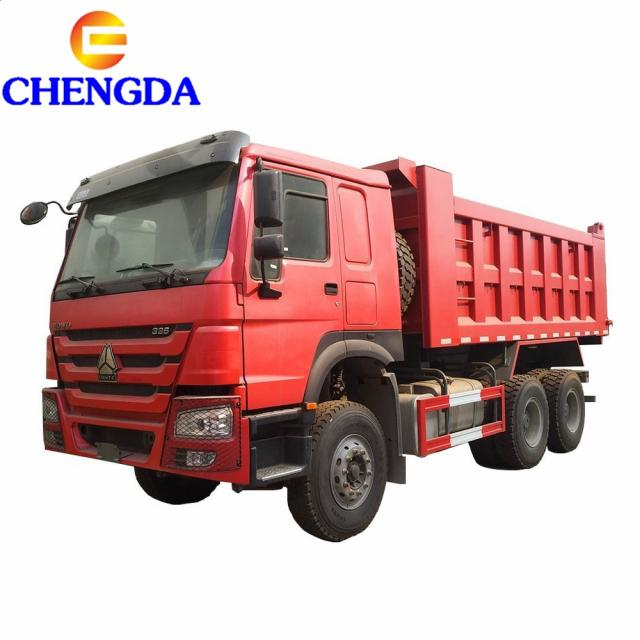Heavy Duty Truck: (23, 129, 613, 556)
